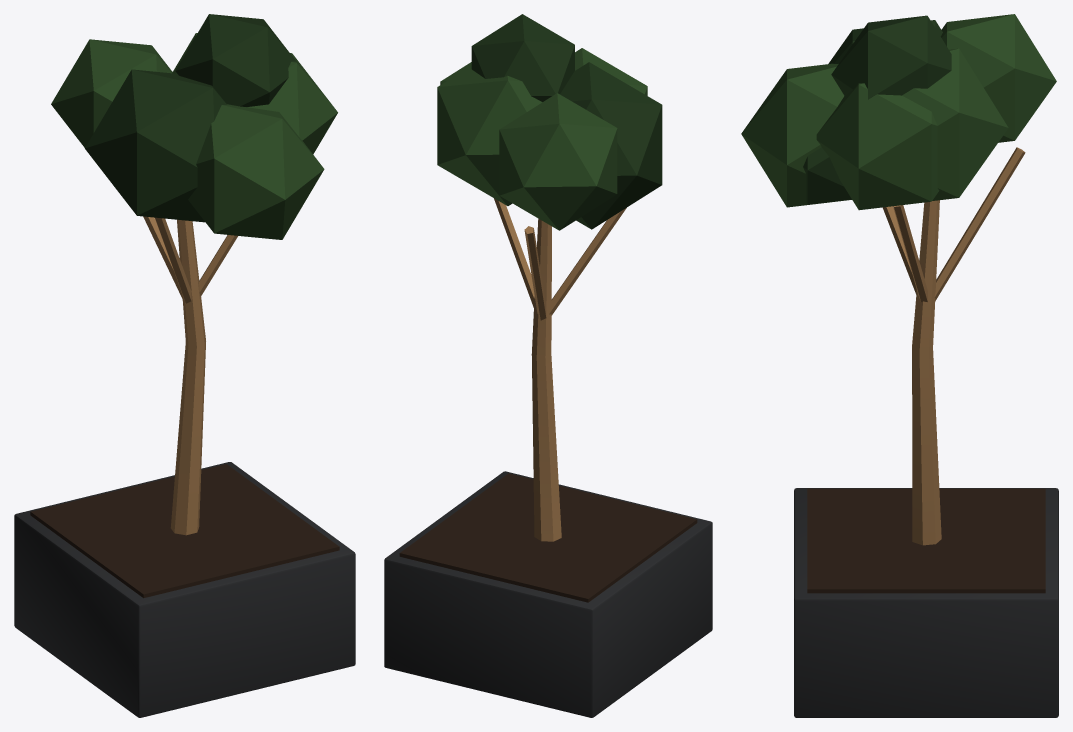
Rendered from vantage_planter.glb.
3 renders of one model, left to right at view 1: azimuth 30°, elevation 25°; view 2: azimuth 150°, elevation 25°; view 3: azimuth 270°, elevation 25°, orthographic. The views are drawn at different scales.
Visible parts, largest first — view 1: vantage_planter; view 2: vantage_planter; view 3: vantage_planter.
Boxes of the visible parts, x1,y1,x2,y2 form: vantage_planter: (14, 14, 355, 717); vantage_planter: (384, 14, 712, 717); vantage_planter: (741, 14, 1058, 717).
Bounding box in the file's own units: 1.27 × 3.3 × 1.44.
